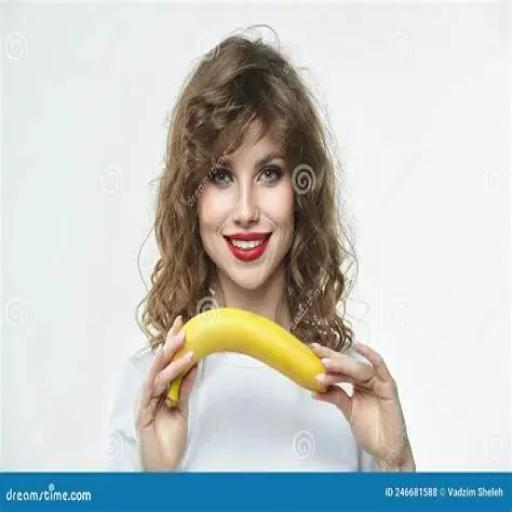banana: (173, 307, 327, 390)
